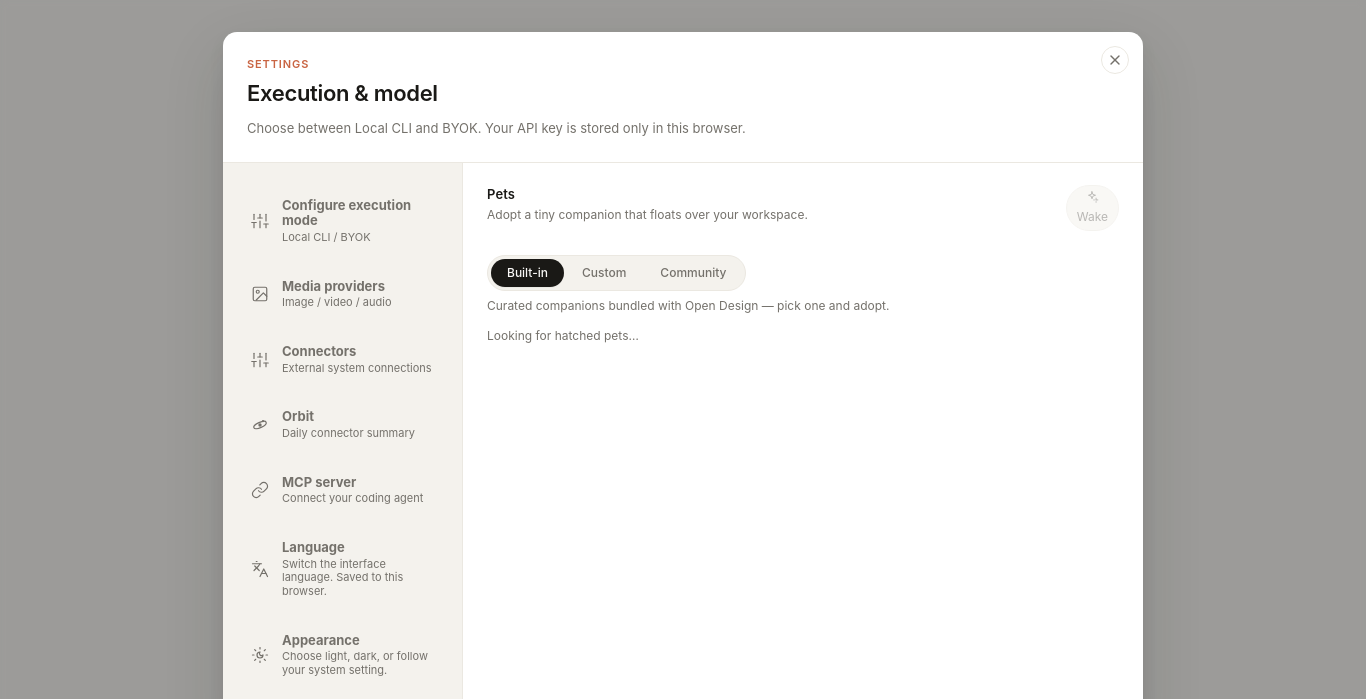
Scenario: SettingsDialog pets interactions › copies the hatch prompt with the current concept
Click the tab "Community". click: (693, 273)
box: [644,259,742,287]
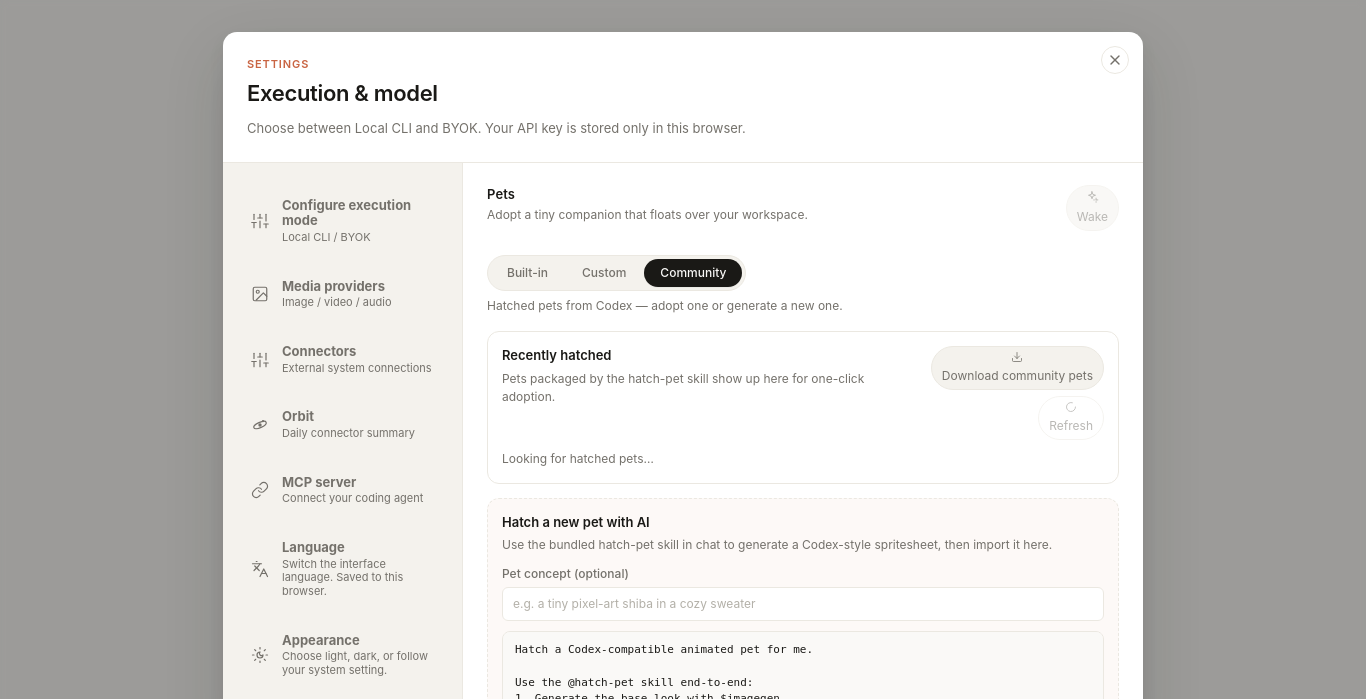
Type "a tiny pixel-art bee in a cozy sweater" into the field labelled "Pet concept (optional)". click: (803, 604)
box: [502,587,1104,621]
(page scrolled)
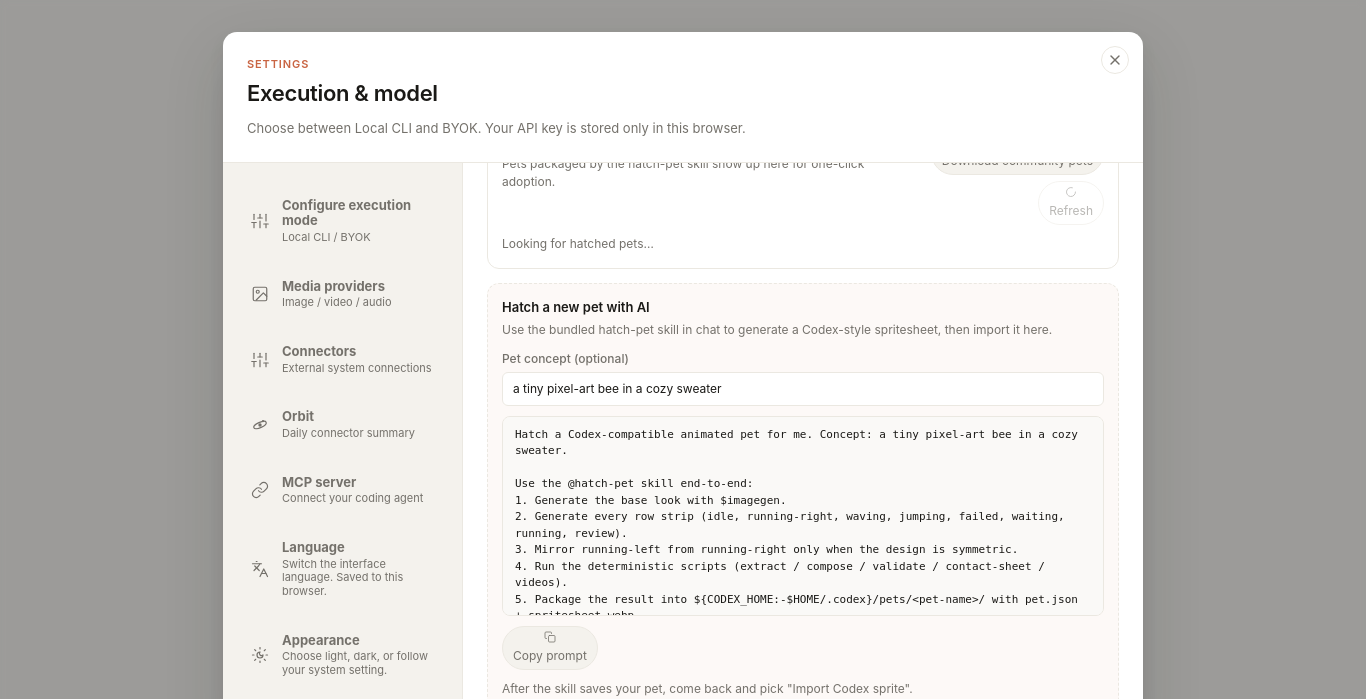
Click the button "Copy prompt". click: (550, 648)
box: [502,626,598,670]
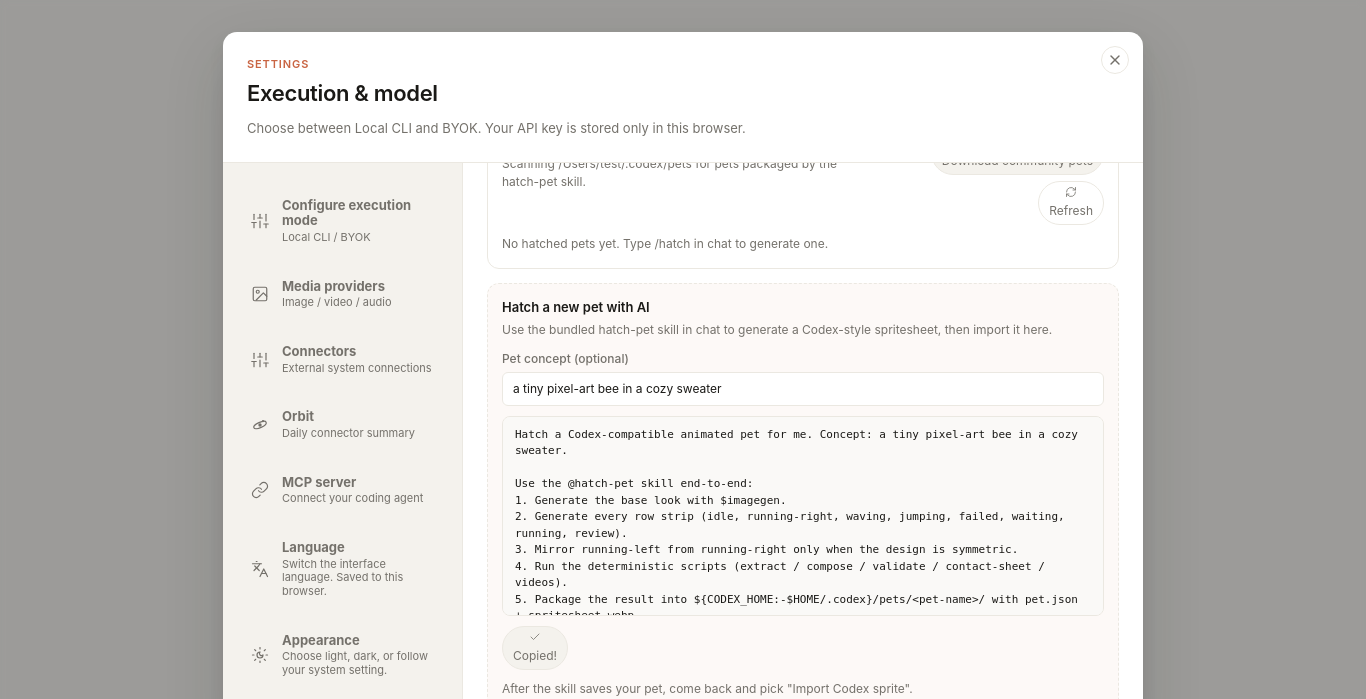
Expected: the button "Copied!" is shown, [502,626,568,670]
